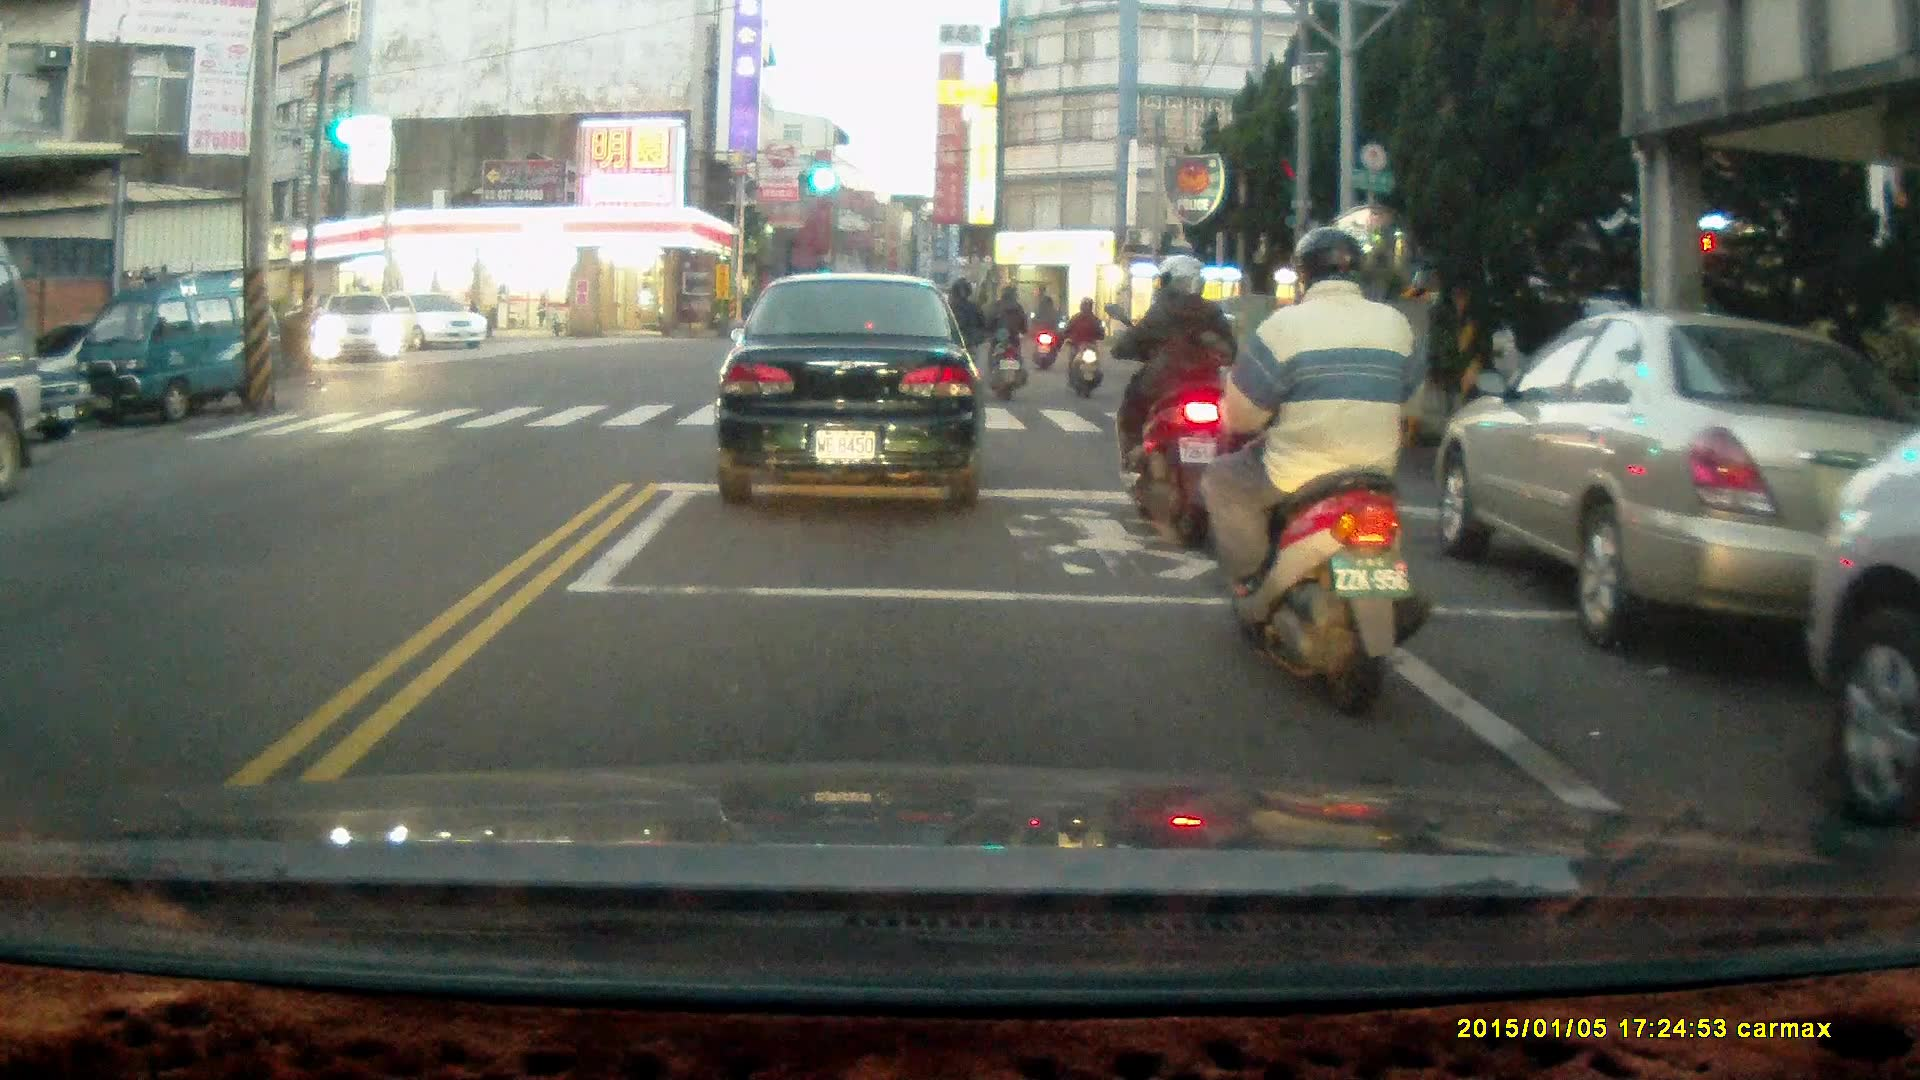rider: (1202, 223, 1434, 717), (1100, 254, 1238, 548), (930, 276, 986, 404), (985, 281, 1028, 405), (1064, 295, 1107, 400), (1032, 294, 1064, 369)
vehicle: (1434, 307, 1909, 657), (710, 272, 986, 512), (1810, 440, 1920, 825), (59, 263, 246, 425), (1, 234, 54, 491), (311, 295, 408, 368), (380, 288, 483, 355)
